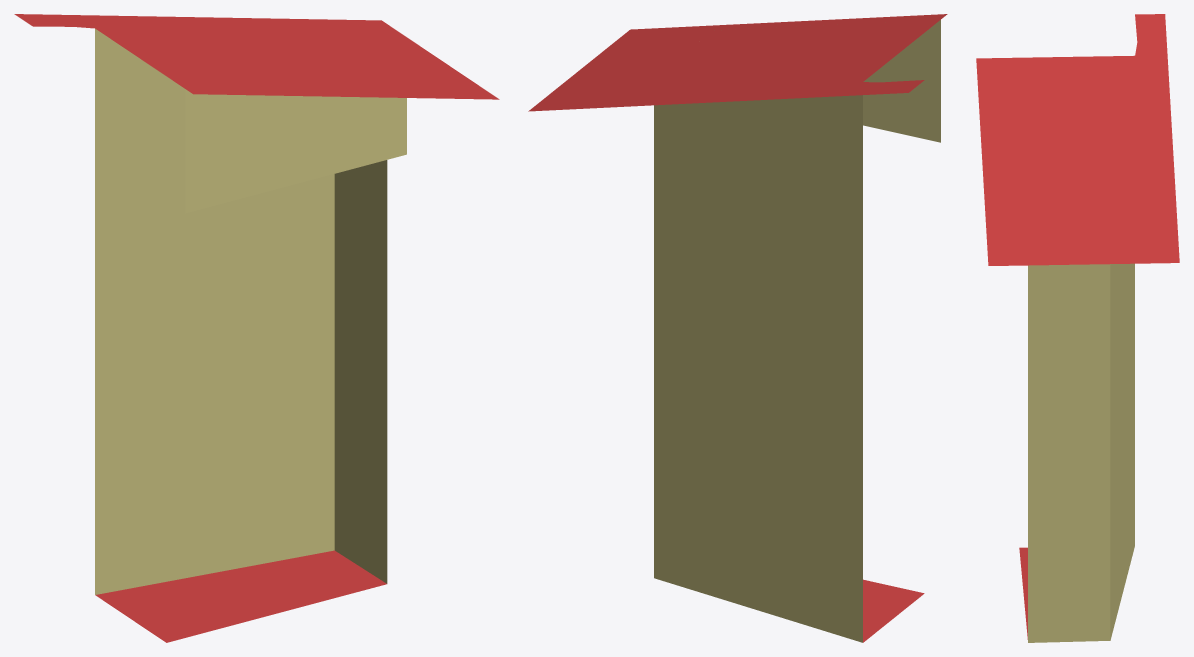
The picture shows the model from 3 angles, left to right: view 1: azimuth 30°, elevation 25°; view 2: azimuth 150°, elevation 25°; view 3: azimuth 270°, elevation 25°; orthographic projection. The views are drawn at different scales.
Bounding box in the file's own units: 7.56 × 4.02 × 11.
